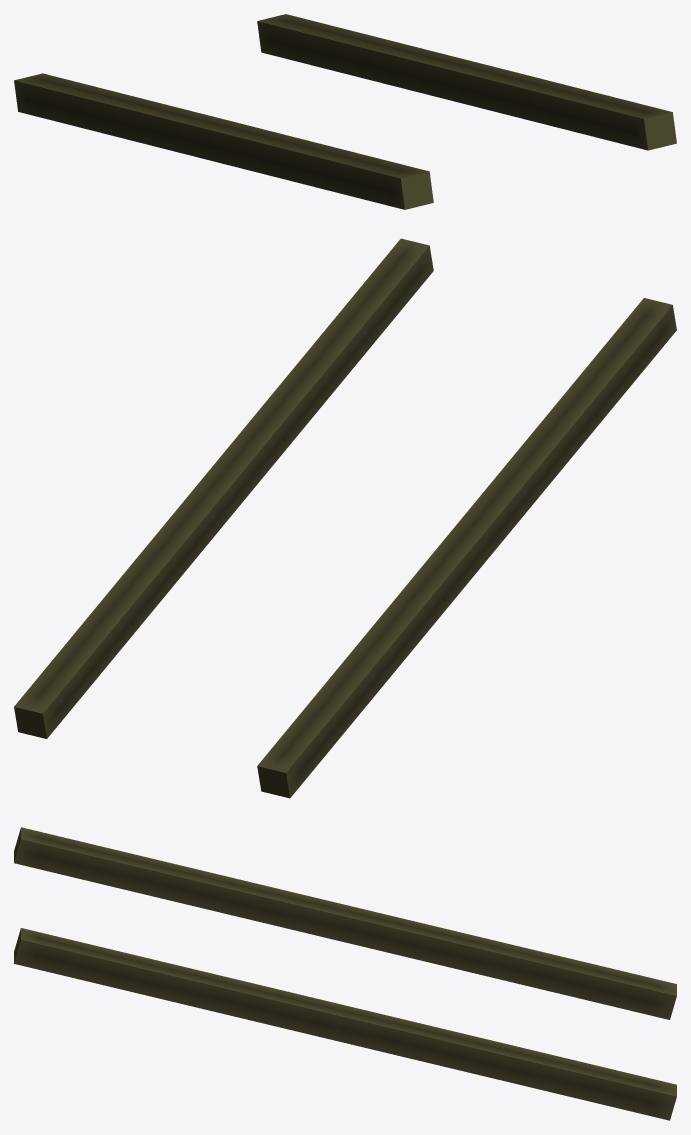
Rendered from roof_beam_v1a001.fbx.
The picture shows the model from 3 angles, top to bottom: view 1: azimuth 30°, elevation 25°; view 2: azimuth 150°, elevation 25°; view 3: azimuth 270°, elevation 25°; orthographic projection. The views are drawn at different scales.
Visible parts, largest first — view 1: roof_beam_v1a001; view 2: roof_beam_v1a001; view 3: roof_beam_v1a001.
Boxes of the visible parts, box(x1,y1,x2,y2) form: roof_beam_v1a001: box(14, 14, 676, 209); roof_beam_v1a001: box(14, 238, 676, 798); roof_beam_v1a001: box(14, 827, 676, 1120).
Bounding box in the file's own units: 254 × 190 × 631.
